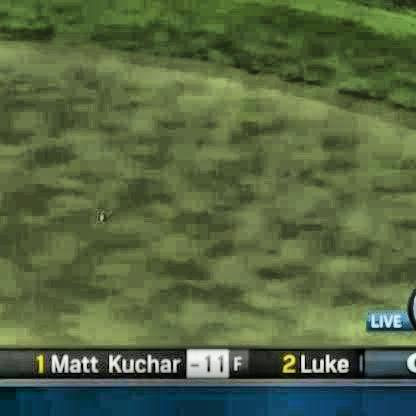golfball: (96, 209, 101, 219)
